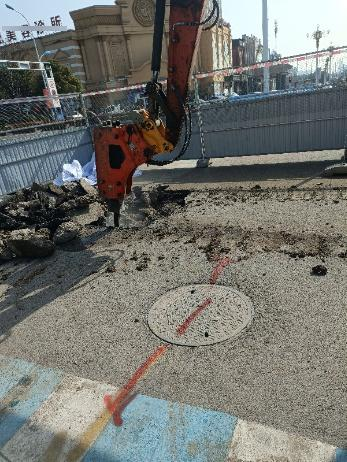wellcover: (148, 281, 253, 349)
